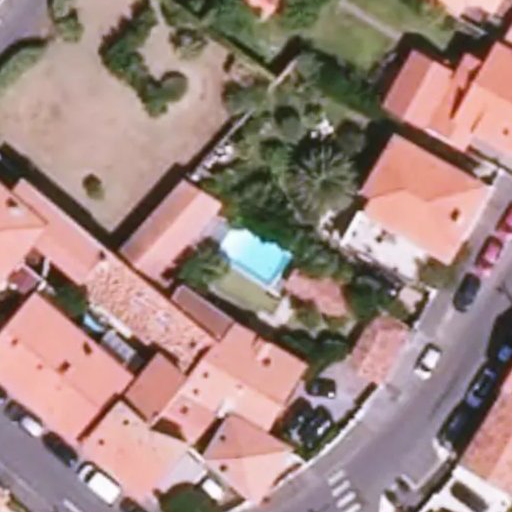pool: (218, 237, 293, 242)
